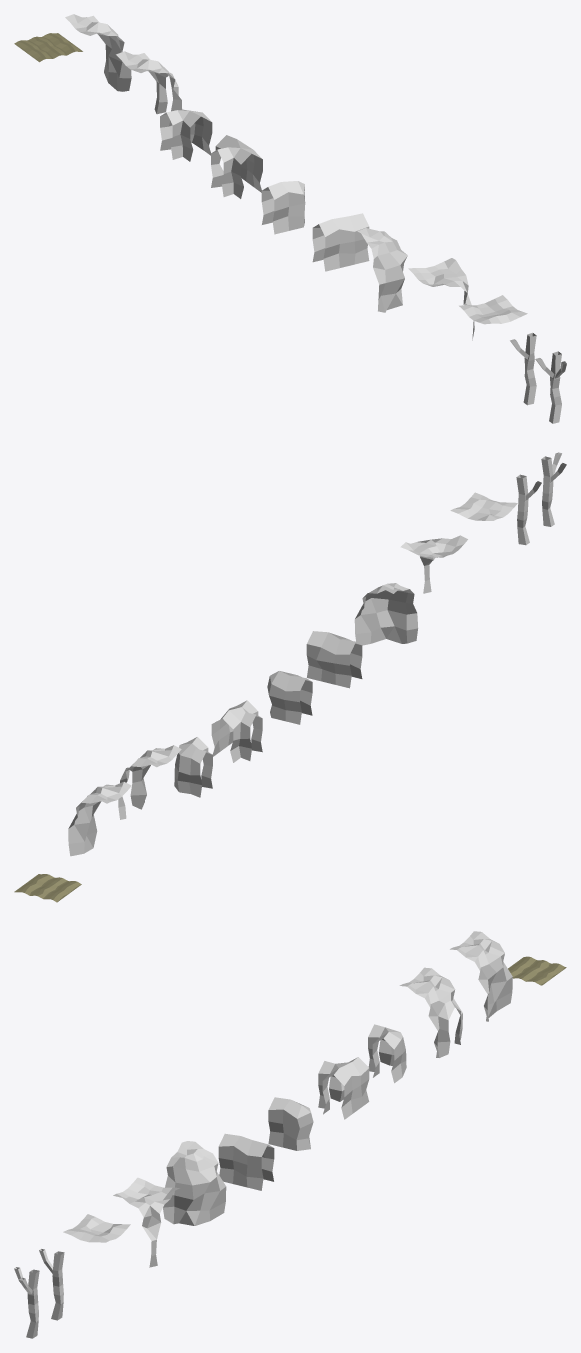
The model's file is Modulair asset pack.fbx.
The picture shows the model from 3 angles, top to bottom: view 1: azimuth 30°, elevation 25°; view 2: azimuth 150°, elevation 25°; view 3: azimuth 330°, elevation 25°; orthographic projection.
Visible parts, largest first — view 1: Rock Hallway, Rock Hallway Split, Rock Corner, Rock Hallway Corner, Rock Hallway Cap, Rock Wall, Rock Opening, Rock Inner Corner, Rock Ceiling, Sand Floor, Pillar Corner, Pillar; view 2: Rock Corner, Rock Hallway, Rock Hallway Split, Rock Hallway Cap, Rock Wall, Rock Hallway Corner, Rock Opening, Rock Inner Corner, Sand Floor, Rock Ceiling, Pillar Corner, Pillar; view 3: Rock Corner, Rock Hallway, Rock Wall, Rock Opening, Rock Hallway Split, Rock Hallway Cap, Rock Inner Corner, Rock Hallway Corner, Rock Ceiling, Sand Floor, Pillar Corner, Pillar.
Boxes of the visible parts, left/top/right/bottom form: Rock Hallway: left=312, top=213, right=369, bottom=271; Rock Hallway Split: left=211, top=135, right=262, bottom=198; Rock Corner: left=357, top=228, right=407, bottom=312; Rock Hallway Corner: left=160, top=109, right=212, bottom=161; Rock Hallway Cap: left=261, top=181, right=305, bottom=234; Rock Wall: left=65, top=14, right=131, bottom=91; Rock Opening: left=116, top=51, right=182, bottom=114; Rock Inner Corner: left=408, top=258, right=474, bottom=340; Rock Ceiling: left=459, top=295, right=527, bottom=324; Sand Floor: left=14, top=33, right=82, bottom=62; Pillar Corner: left=535, top=351, right=566, bottom=423; Pillar: left=510, top=332, right=536, bottom=405; Rock Corner: left=354, top=583, right=418, bottom=645; Rock Hallway: left=306, top=631, right=362, bottom=688; Rock Hallway Split: left=211, top=700, right=262, bottom=762; Rock Hallway Cap: left=267, top=671, right=312, bottom=724; Rock Wall: left=68, top=782, right=131, bottom=856; Rock Hallway Corner: left=174, top=737, right=212, bottom=797; Rock Opening: left=118, top=745, right=181, bottom=819; Rock Inner Corner: left=400, top=535, right=467, bottom=593; Sand Floor: left=14, top=874, right=81, bottom=902; Rock Ceiling: left=450, top=492, right=517, bottom=520; Pillar Corner: left=541, top=452, right=566, bottom=526; Pillar: left=516, top=474, right=541, bottom=545; Rock Corner: left=163, top=1141, right=226, bottom=1225; Rock Hallway: left=218, top=1133, right=274, bottom=1190; Rock Wall: left=450, top=931, right=512, bottom=1021; Rock Opening: left=399, top=967, right=462, bottom=1057; Rock Hallway Split: left=318, top=1057, right=369, bottom=1119; Rock Hallway Cap: left=268, top=1097, right=313, bottom=1150; Rock Inner Corner: left=113, top=1177, right=179, bottom=1267; Rock Hallway Corner: left=368, top=1024, right=406, bottom=1083; Rock Ceiling: left=63, top=1214, right=130, bottom=1242; Sand Floor: left=508, top=956, right=566, bottom=985; Pillar Corner: left=14, top=1267, right=39, bottom=1338; Pillar: left=39, top=1249, right=64, bottom=1320.
Bounding box in the file's own units: 2.13 × 3.06 × 41.89.
